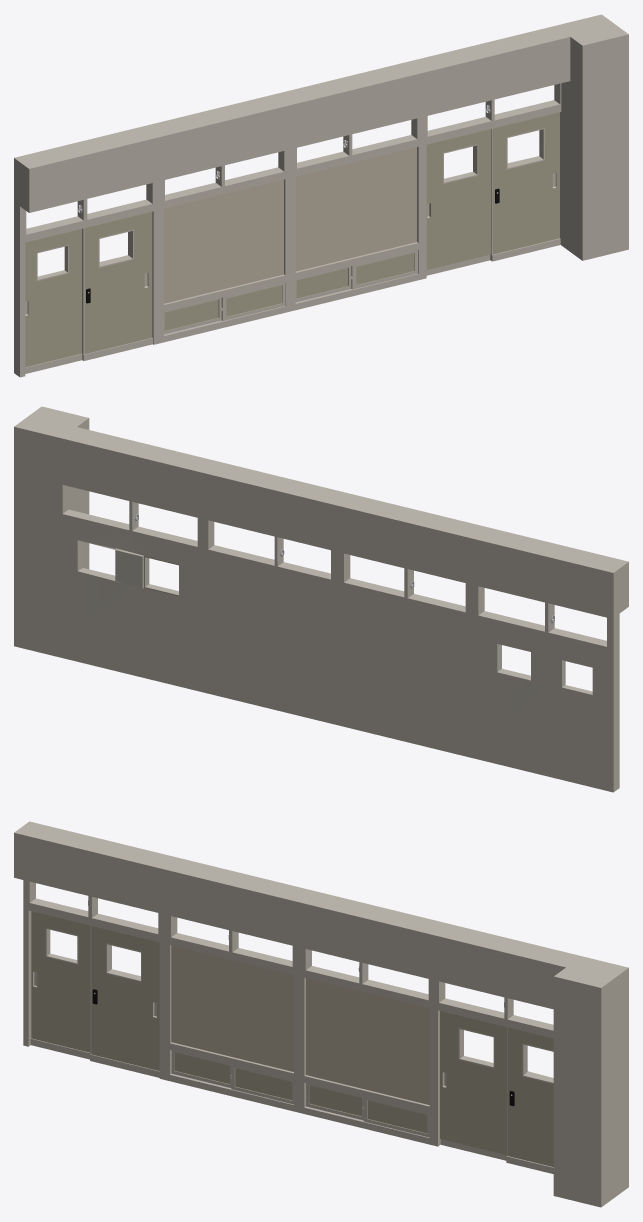
Rendered from RightWall.obj.
3 renders of one model, top to bottom at view 1: azimuth 30°, elevation 25°; view 2: azimuth 150°, elevation 25°; view 3: azimuth 330°, elevation 25°, orthographic. The views are drawn at different scales.
Visible parts, largest first — view 1: RightWall_RightWall_initialShadingGroup.004, RightWall_RightWall_lambert2SG, RightWall_RightWall_blinn1SG.001, RightWall_RightWall_lambert3SG; view 2: RightWall_RightWall_initialShadingGroup.004, RightWall_RightWall_blinn1SG.001; view 3: RightWall_RightWall_initialShadingGroup.004, RightWall_RightWall_lambert2SG, RightWall_RightWall_blinn1SG.001, RightWall_RightWall_lambert3SG.
Part boxes in pixels (bbox=[...]): RightWall_RightWall_initialShadingGroup.004: bbox=[14, 14, 628, 376]; RightWall_RightWall_lambert2SG: bbox=[25, 112, 559, 367]; RightWall_RightWall_blinn1SG.001: bbox=[20, 83, 561, 377]; RightWall_RightWall_lambert3SG: bbox=[88, 147, 498, 303]; RightWall_RightWall_initialShadingGroup.004: bbox=[14, 406, 628, 792]; RightWall_RightWall_blinn1SG.001: bbox=[62, 485, 606, 696]; RightWall_RightWall_initialShadingGroup.004: bbox=[14, 821, 628, 1207]; RightWall_RightWall_lambert2SG: bbox=[31, 911, 553, 1166]; RightWall_RightWall_blinn1SG.001: bbox=[23, 880, 553, 1173]; RightWall_RightWall_lambert3SG: bbox=[94, 945, 512, 1104].
Size of the model in its own units: 20.98 by 7.34 by 1.76.
